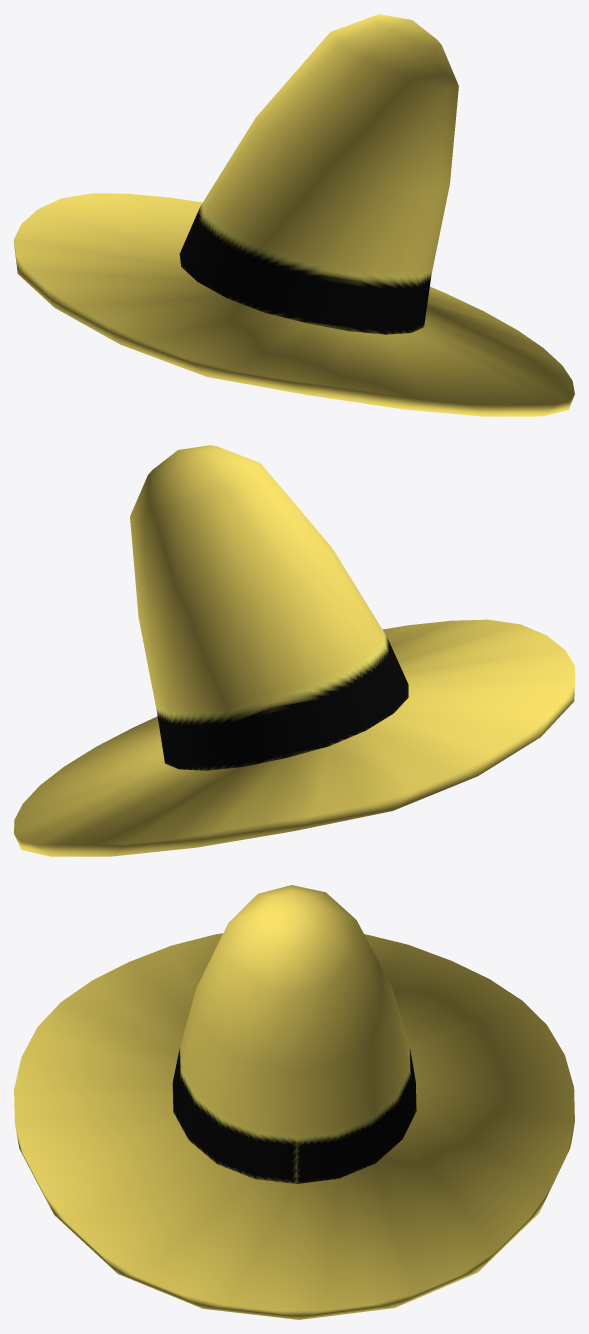
The model's file is icon.ico.obj.
3 renders of one model, top to bottom at view 1: azimuth 30°, elevation 25°; view 2: azimuth 150°, elevation 25°; view 3: azimuth 270°, elevation 25°, orthographic. The views are drawn at different scales.
Bounding box in the file's own units: 3.75 × 2.75 × 3.92.
1 material, 1 textured.
